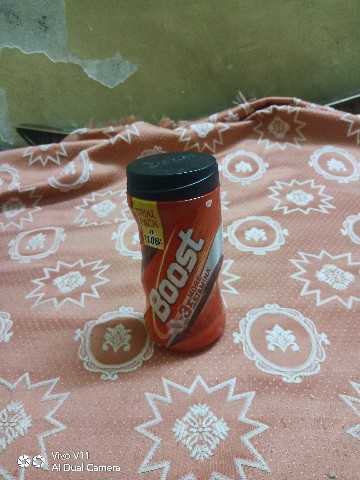boost small: (124, 137, 240, 379)
